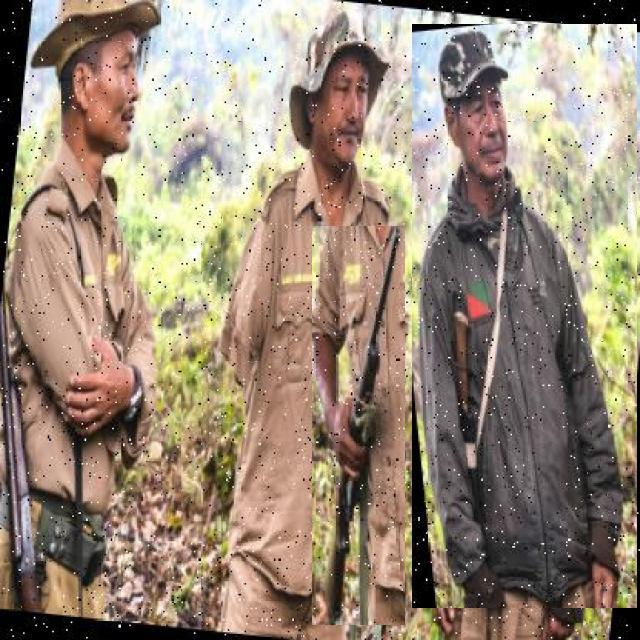poacher: (180, 2, 438, 596), (412, 24, 637, 608), (15, 1, 154, 584)
weapon: (312, 226, 405, 625)
